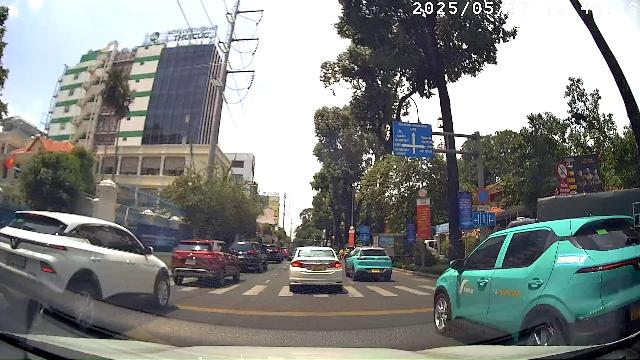131a-cam-do-xe: (476, 188, 490, 204)
